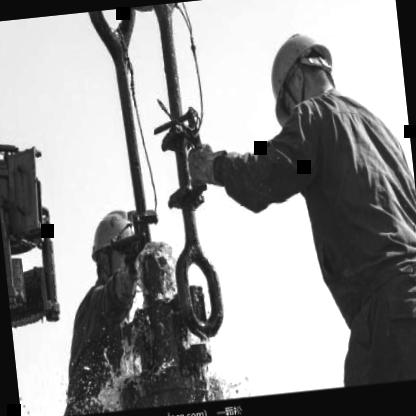helmet: (257, 20, 343, 126), (77, 198, 143, 296)
